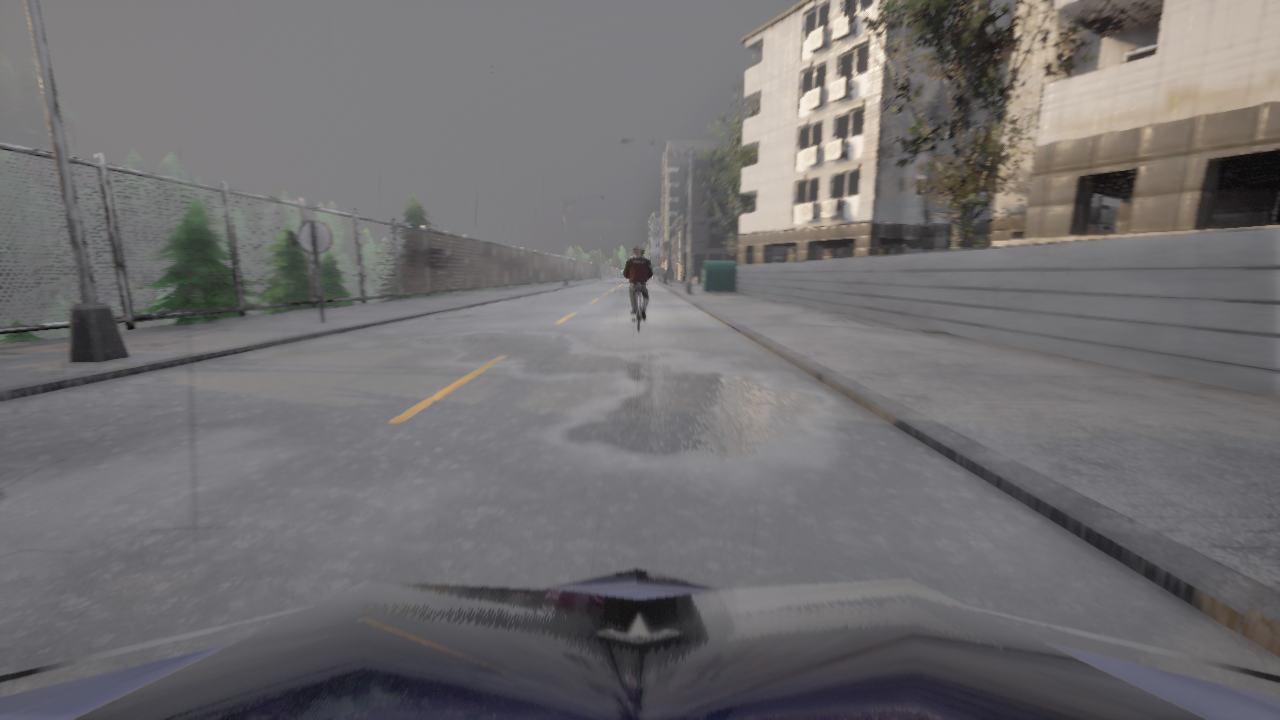cyclist: (0, 569, 1279, 719), (632, 292, 641, 331)
